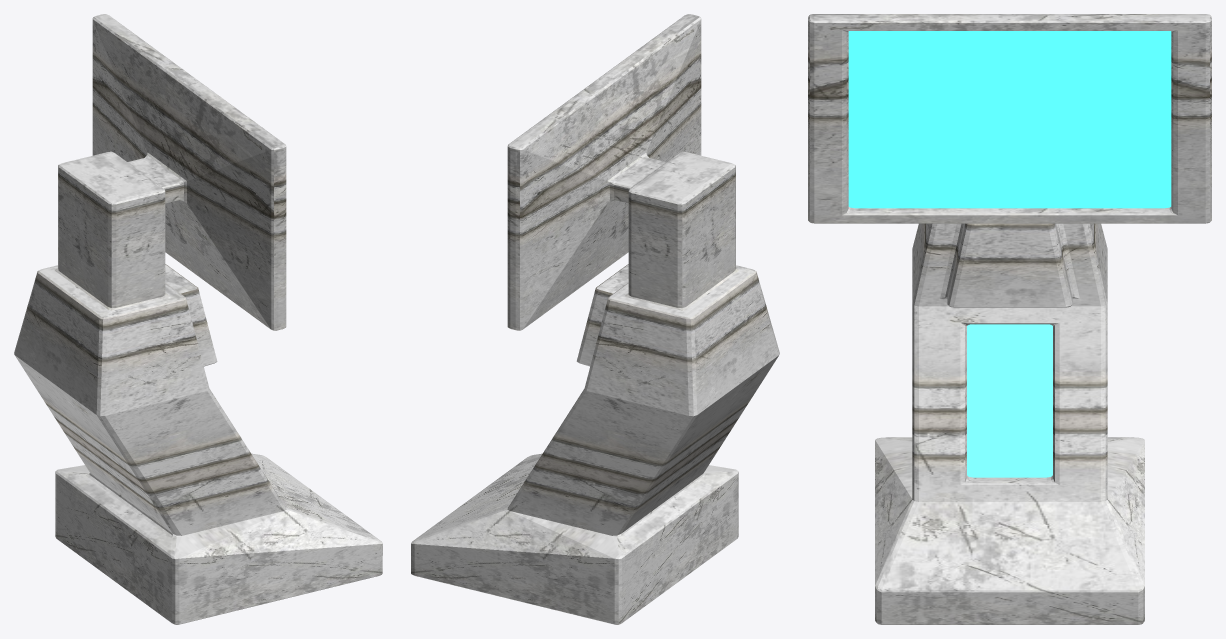
Rendered from computer1.glb.
3 views of the same model, side by side, from view 1: azimuth 30°, elevation 25°; view 2: azimuth 150°, elevation 25°; view 3: azimuth 270°, elevation 25° (orthographic). The views are drawn at different scales.
Visible parts, largest first — view 1: Cube.013; view 2: Cube.013; view 3: Cube.013.
Boxes of the visible parts, x1,y1,x2,y2 form: Cube.013: (14, 14, 382, 624); Cube.013: (411, 14, 779, 624); Cube.013: (808, 14, 1211, 624).
Bounding box in the file's own units: 1.48 × 2.53 × 1.73.
2 materials, 1 textured.
